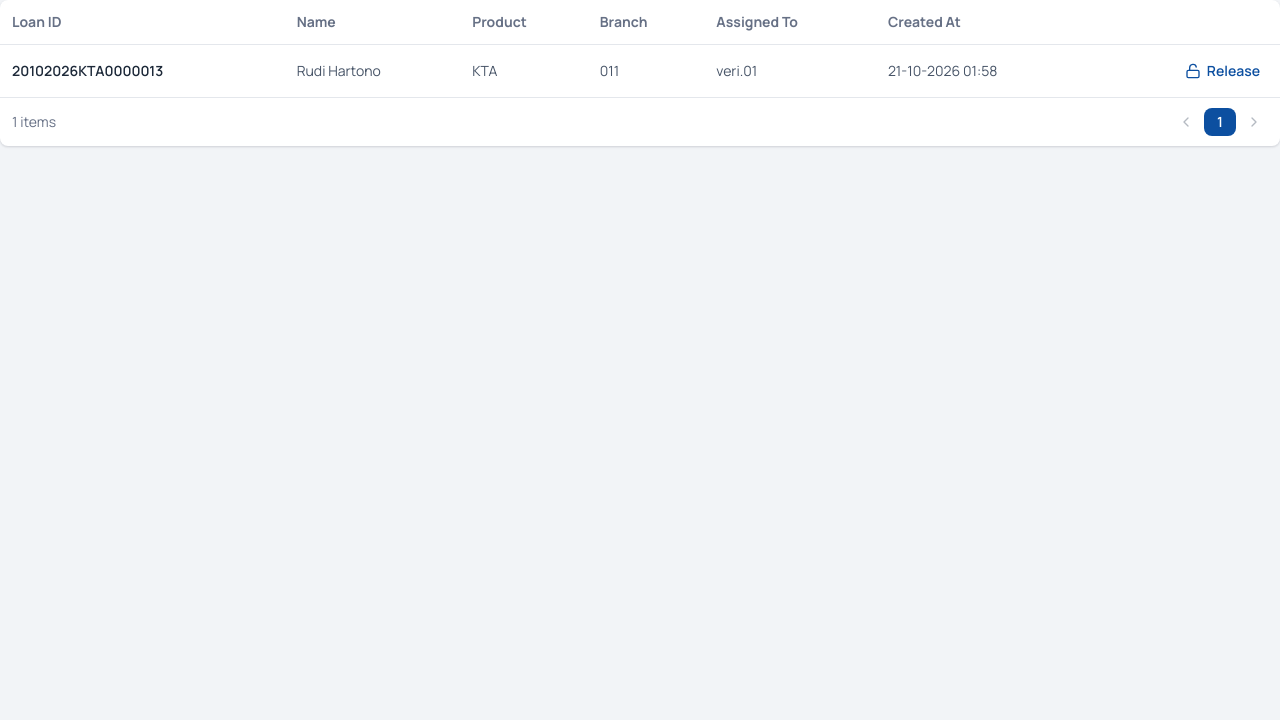
Scenario: TaskQueue › AC-58.05 lets a Supervisor release a held task after Yes
The width and height of the screenshot is (1280, 720).
Click the button "Release" at (1222, 71), box [1177,57,1268,85]
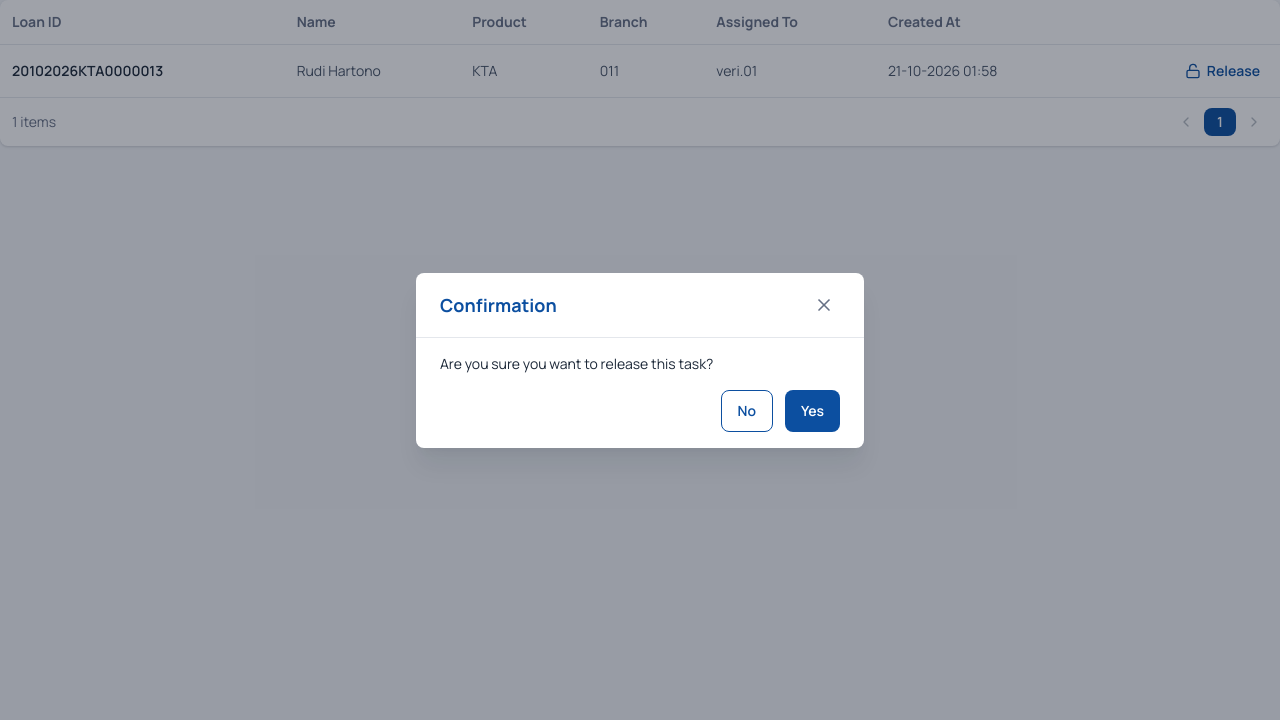
Click the button "Yes" at (812, 410), box [785,390,840,432]
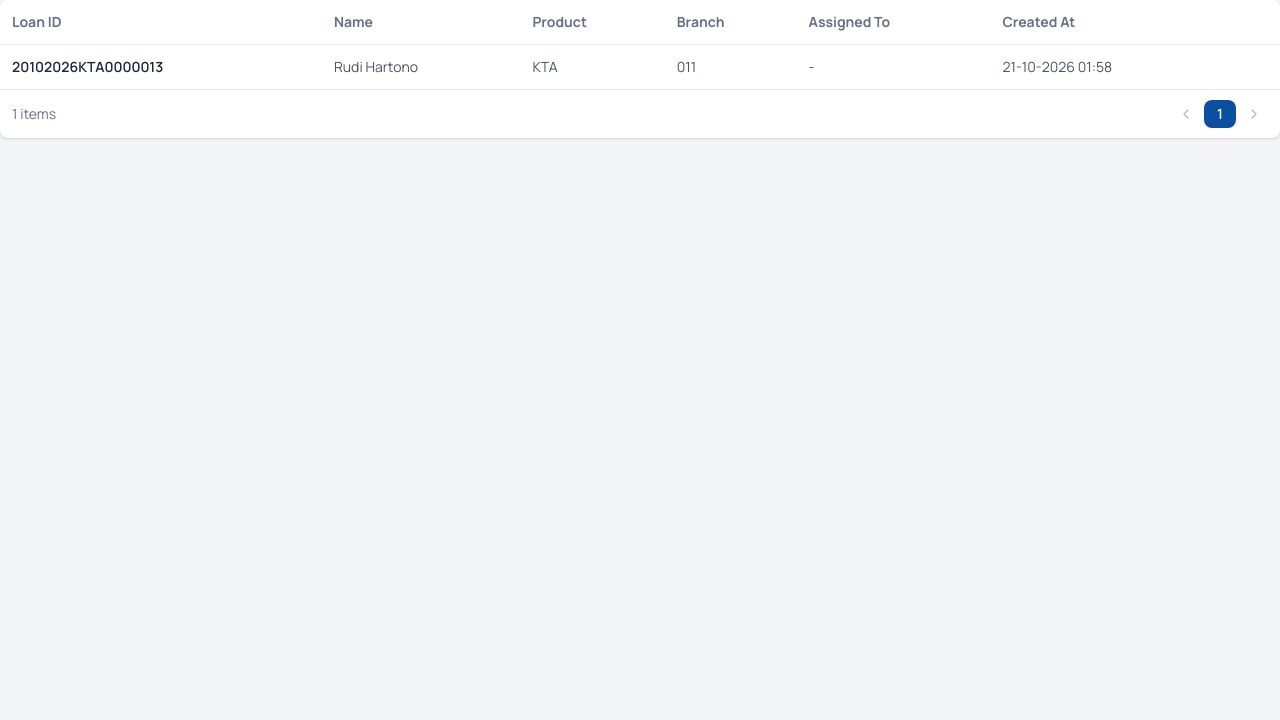
Expected: the row "20102026KTA0000013 Rudi Hartono KTA 011 - 21-10-2026 01:58" no longer shows "veri.01", [0,44,1279,89]
Expected: the dialog is gone
